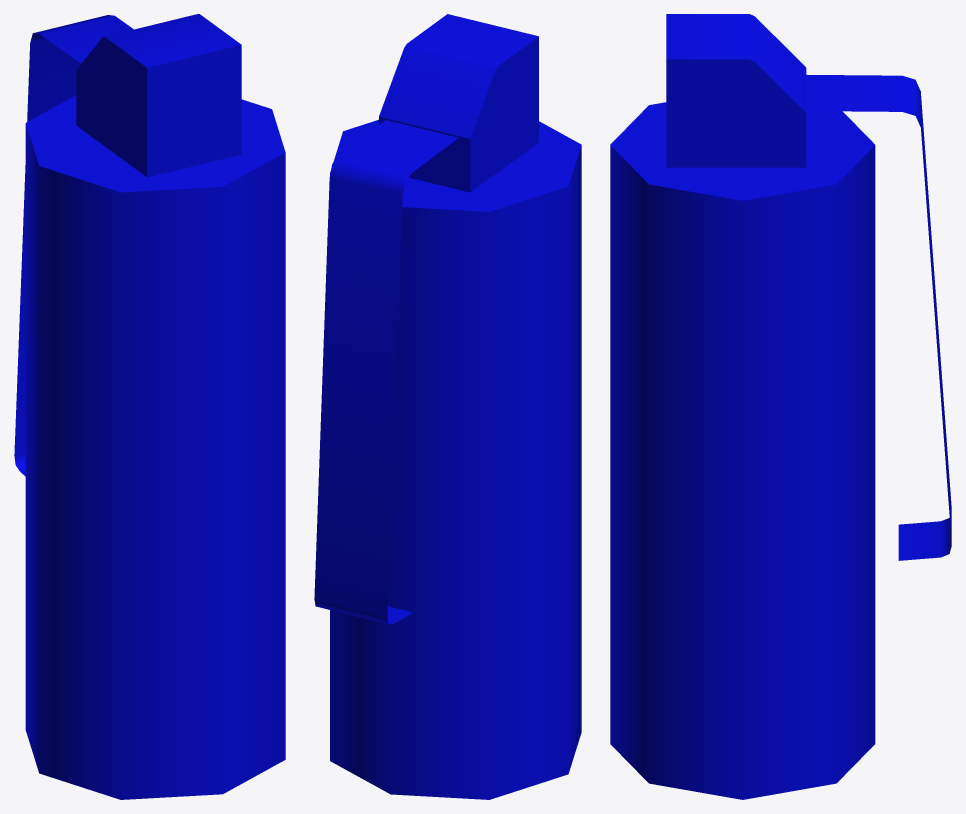
The model's file is FlashBang.FBX.
3 renders of one model, left to right at view 1: azimuth 30°, elevation 25°; view 2: azimuth 150°, elevation 25°; view 3: azimuth 270°, elevation 25°, orthographic. The views are drawn at different scales.
Parts seen in each view (by area): view 1: FlashBang_Low; view 2: FlashBang_Low; view 3: FlashBang_Low.
Boxes of the visible parts, box(x1,y1,x2,y2) form: FlashBang_Low: box(14, 14, 285, 799); FlashBang_Low: box(314, 14, 581, 799); FlashBang_Low: box(610, 14, 951, 799).
Bounding box in the file's own units: 2.81 × 8.26 × 3.62.
